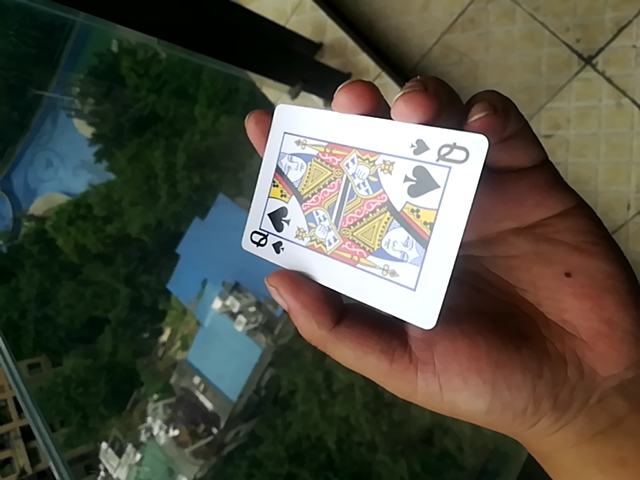ht q: (240, 103, 483, 330)
